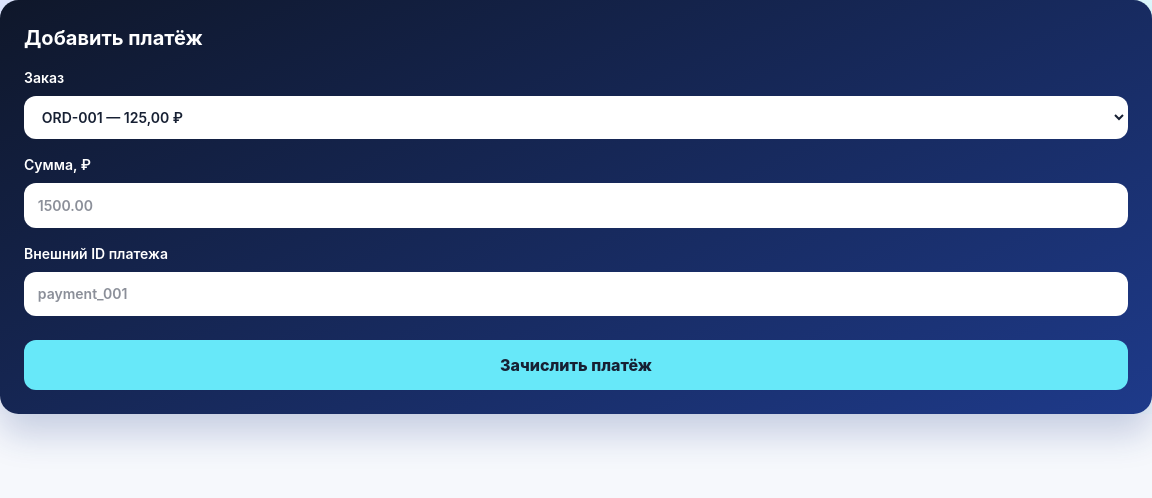
it: PaymentForm › shows an idempotency message for a duplicate payment
This screenshot has width=1152, height=498.
Type "1500" into the number field labelled "Сумма, ₽".
click(576, 206); type("1500")  # box x1=24 y1=183 x2=1128 y2=228
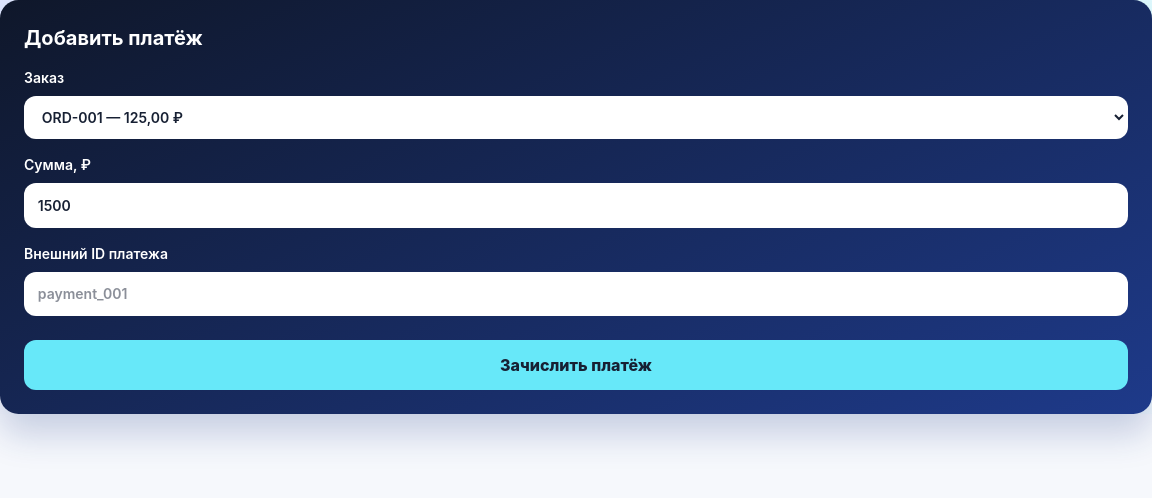
Type "gateway-1" into the field labelled "Внешний ID платежа".
click(576, 294); type("gateway-1")  # box x1=24 y1=272 x2=1128 y2=316
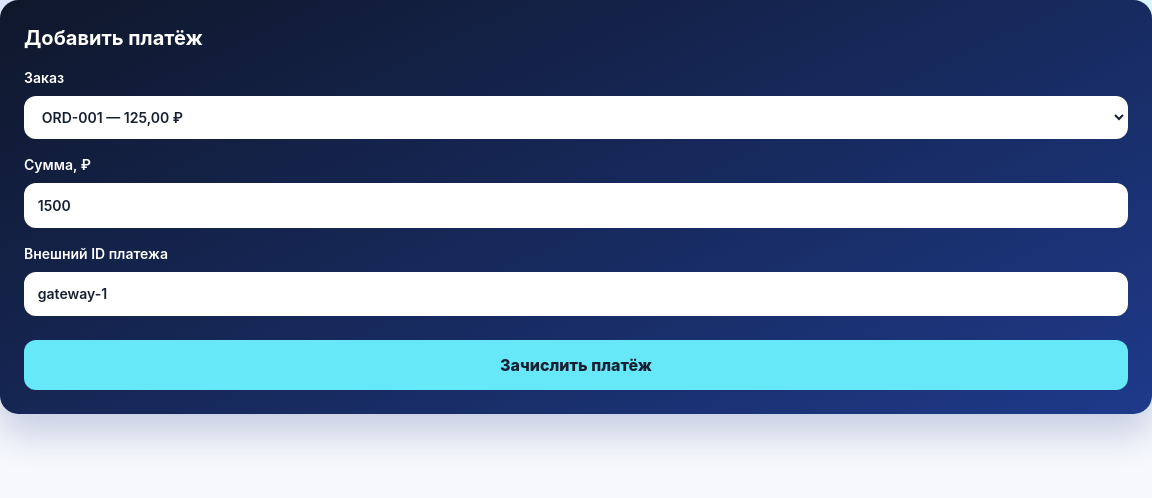
Submit the form "Зачислить платёж"
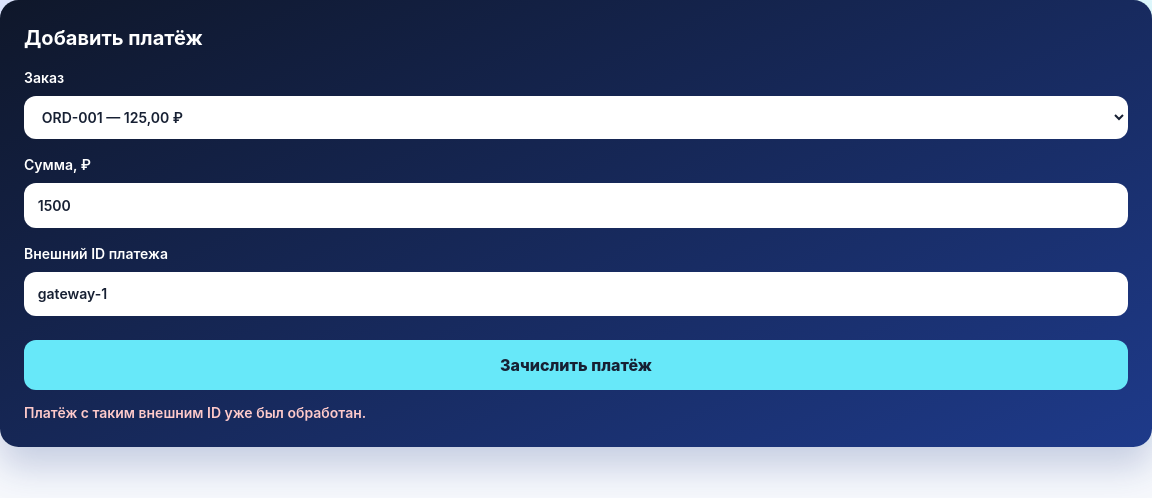
Expected: the message reads "Платёж с таким внешним ID уже был обработан.", x1=24 y1=404 x2=366 y2=421
